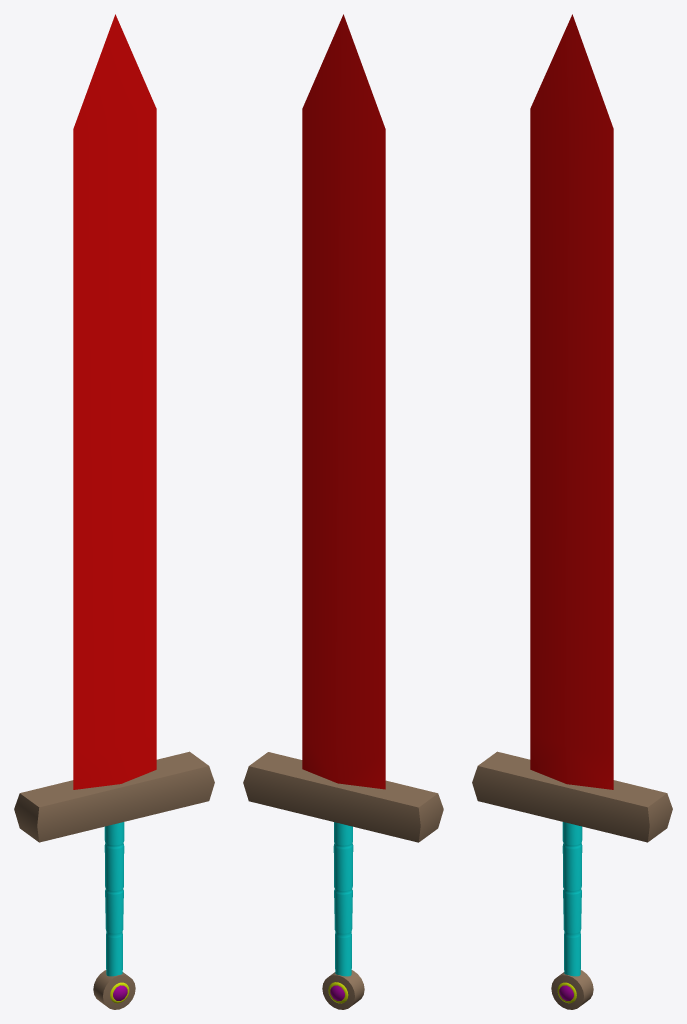
File: LongSword.fbx
3 views of the same model, side by side, from view 1: azimuth 30°, elevation 25°; view 2: azimuth 150°, elevation 25°; view 3: azimuth 330°, elevation 25° (orthographic).
Visible parts, largest first — view 1: Sword; view 2: Sword; view 3: Sword.
Part boxes in pixels (x1=…): Sword: x1=14, y1=14, x2=214, y2=1009; Sword: x1=243, y1=14, x2=443, y2=1009; Sword: x1=472, y1=14, x2=672, y2=1009.
Bounding box in the file's own units: 32.47 × 173 × 7.33.
